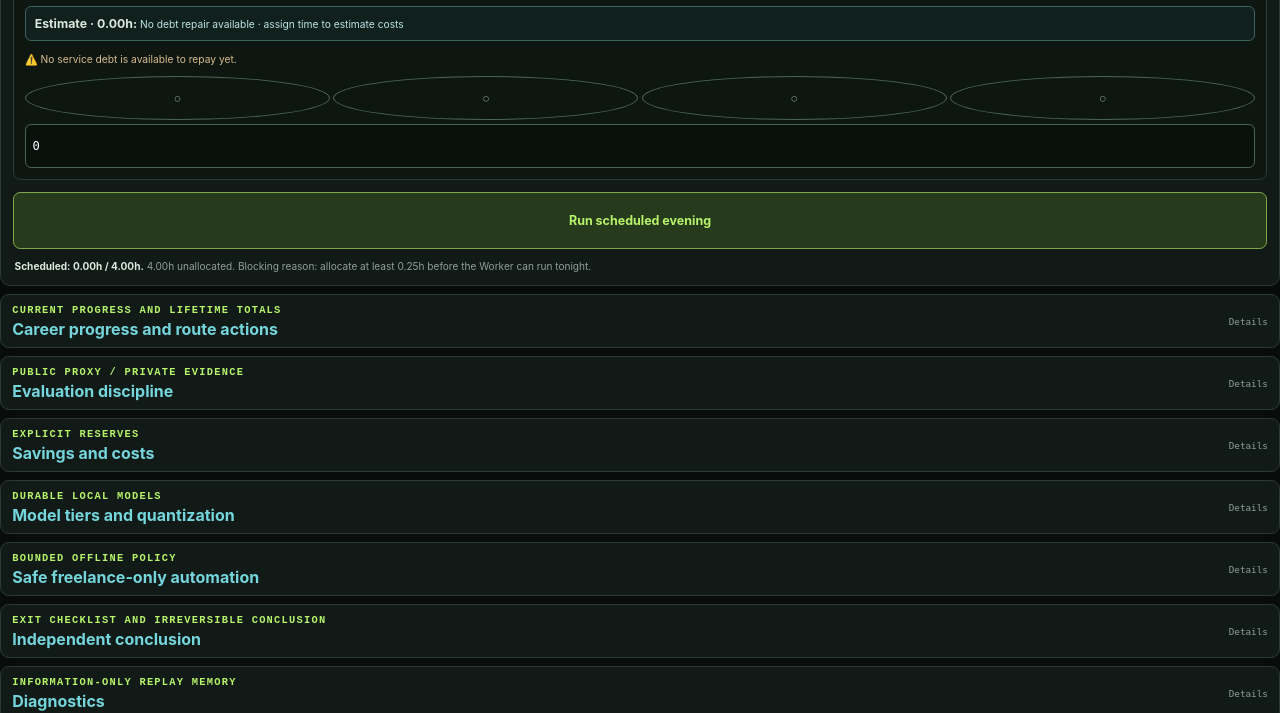
Test: Phase 4 compact money boundaries › formats the private evaluation action as an independent compact cost
The width and height of the screenshot is (1280, 713).
(page scrolled)
Step 1. Click the heading named "Show Evaluation discipline" → (128, 372), box [1, 357, 1279, 409]
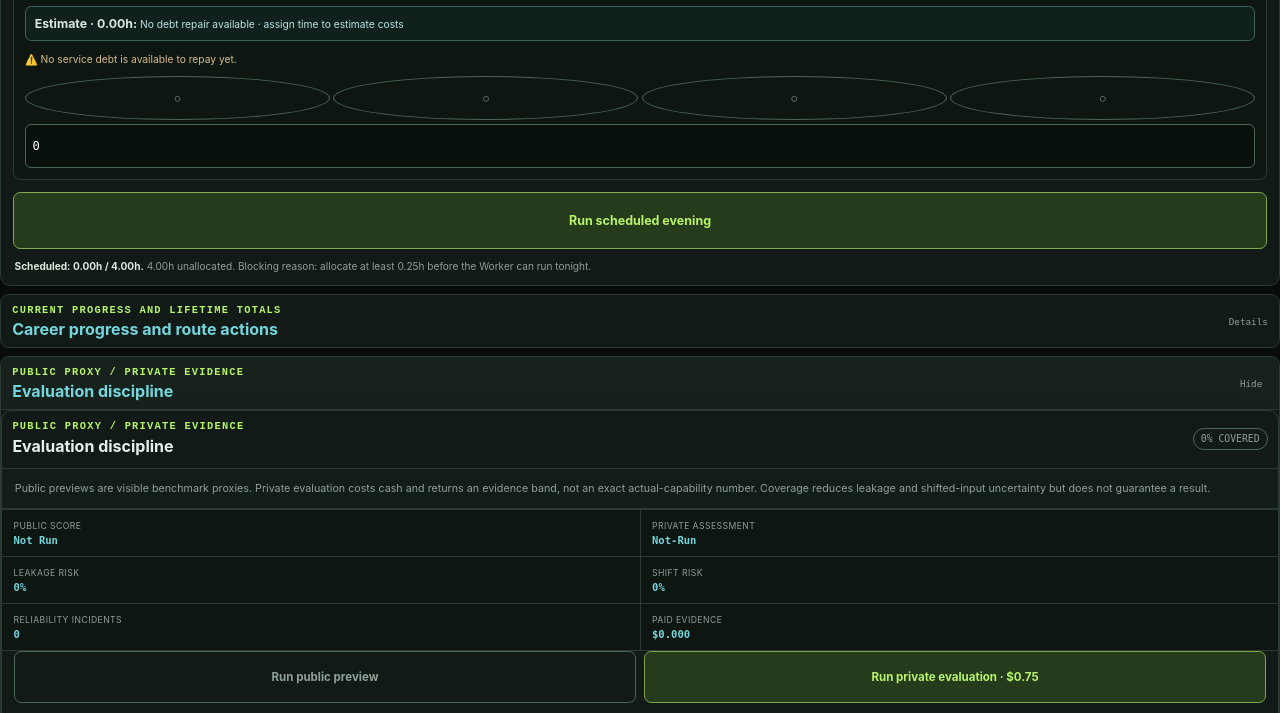
Expected: the button with aria-label "Run paid private evaluation" reads "Run private evaluation · $0.75", [644, 651, 1266, 703]
